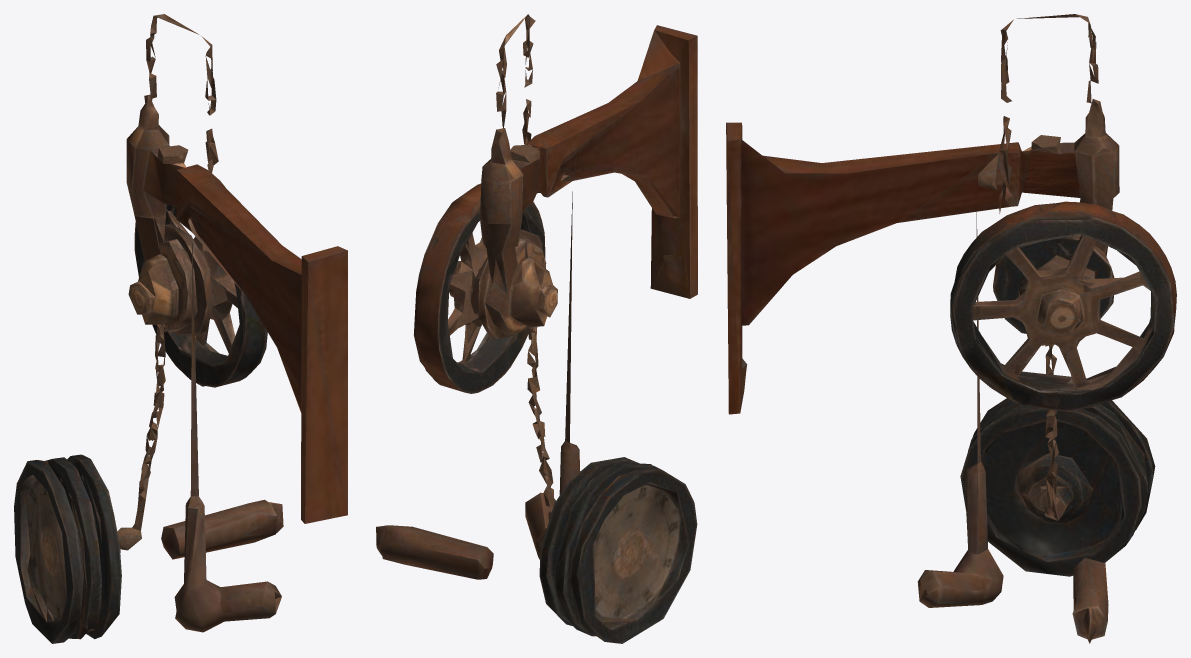
File: mj-gym-weight-machine.glb
The picture shows the model from 3 angles, left to right: view 1: azimuth 30°, elevation 25°; view 2: azimuth 150°, elevation 25°; view 3: azimuth 270°, elevation 25°; orthographic projection. The views are drawn at different scales.
Visible parts, largest first — view 1: mj-gym-weight-machine; view 2: mj-gym-weight-machine; view 3: mj-gym-weight-machine.
Part boxes in pixels (x1,y1,x2,y2): mj-gym-weight-machine: [14, 14, 347, 643]; mj-gym-weight-machine: [376, 14, 697, 643]; mj-gym-weight-machine: [726, 14, 1176, 643].
Bounding box in the file's own units: 0.9577 × 2 × 1.35.
Materials: 1 (1 with a texture image).
